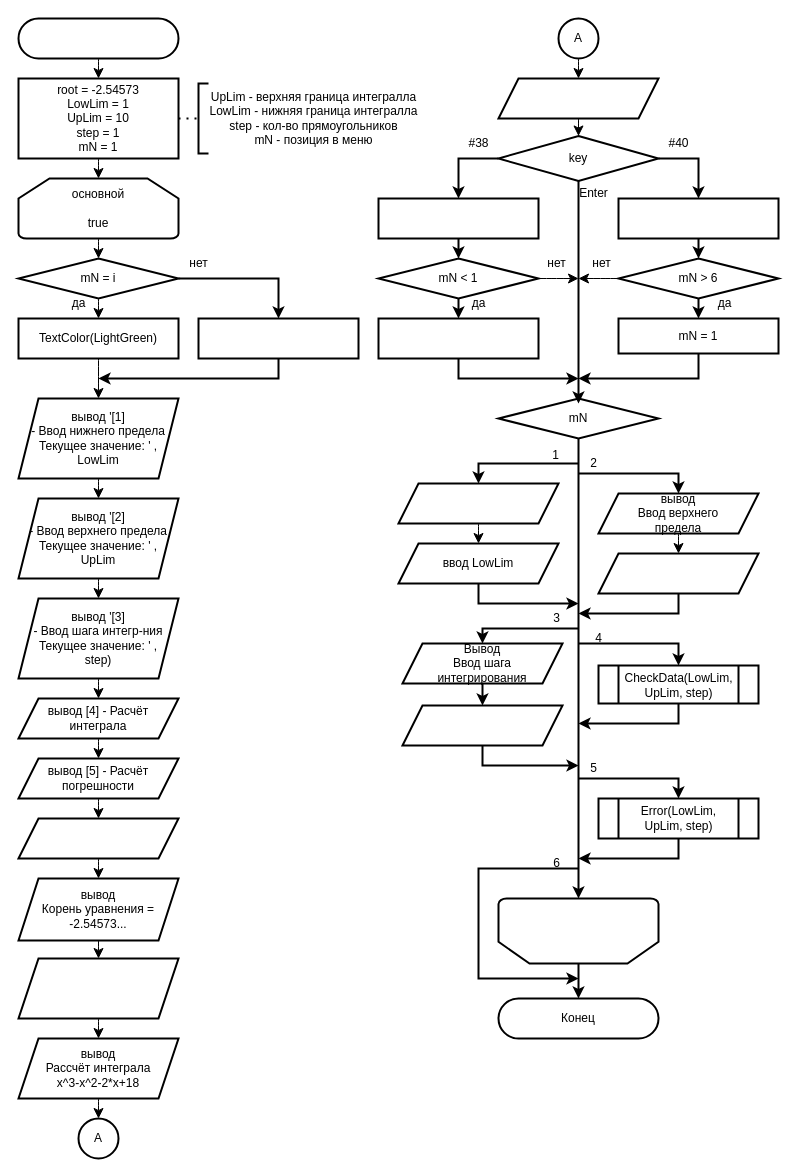
Image size: 796x1176. Some labels were removed from this diagram. Here are the shapes that lost their labels. From the top down, the box of each, then its label:
(17, 17, 179, 59): Начало
(497, 77, 659, 119): ввод key
(377, 197, 539, 239): mN = mN - 1
(617, 197, 779, 239): mN = mN + 1
(197, 317, 359, 359): TextColor(White)
(377, 317, 539, 359): mN = 6
(397, 482, 559, 524): вывод Ввод нижнего предела
(597, 552, 759, 594): ввод UpLim
(401, 704, 563, 746): ввод stepp
(17, 817, 179, 859): вывод [6] - Выход
(497, 897, 659, 964): основной
(17, 957, 179, 1019): вывод Сейчас выбрано: mN
